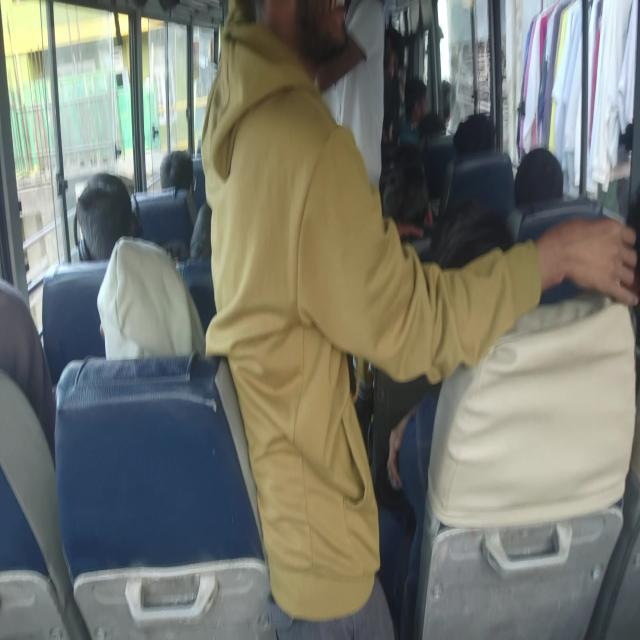person: (224, 0, 338, 299), (100, 226, 197, 350), (438, 213, 530, 300), (0, 302, 48, 401), (387, 176, 435, 237), (363, 13, 400, 90), (510, 158, 576, 196), (76, 168, 136, 208), (192, 205, 236, 254), (160, 150, 195, 192), (455, 118, 501, 148), (411, 69, 438, 103), (396, 150, 422, 183), (418, 98, 443, 131)
